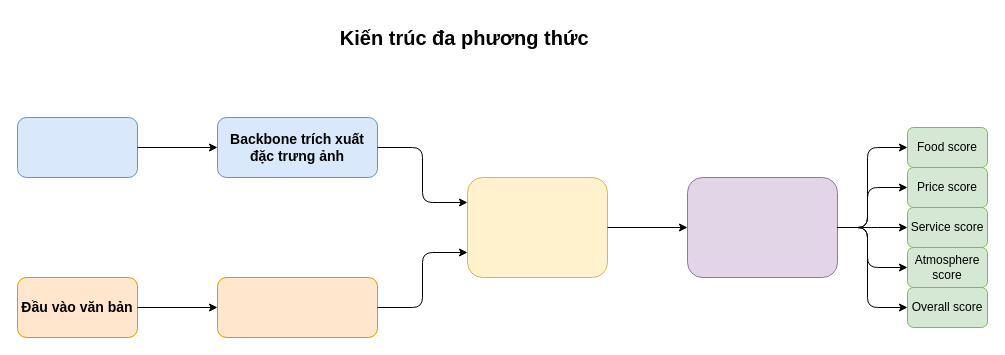
Some shapes in this 1005 by 355 pixel diagram are drawn without their labels. The centre of each missing label's shape, as x and y in pixels:
"Backbone trích xuất đặc trưng text" goes at pixel 297 307.
"Hợp nhất đa phương thức" goes at pixel 537 227.
"Regression head (MLP)" goes at pixel 762 227.
"Đầu vào hình ảnh" goes at pixel 77 147.
